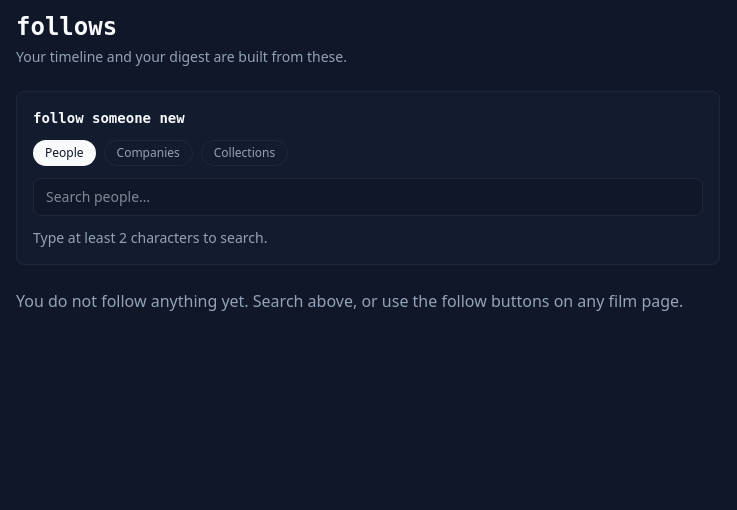
MyFollows › names a row the moment it is followed, before the server answers
Type "nolan" into the search field labelled "Search people…". click: (368, 197)
box: x1=33 y1=178 x2=703 y2=216
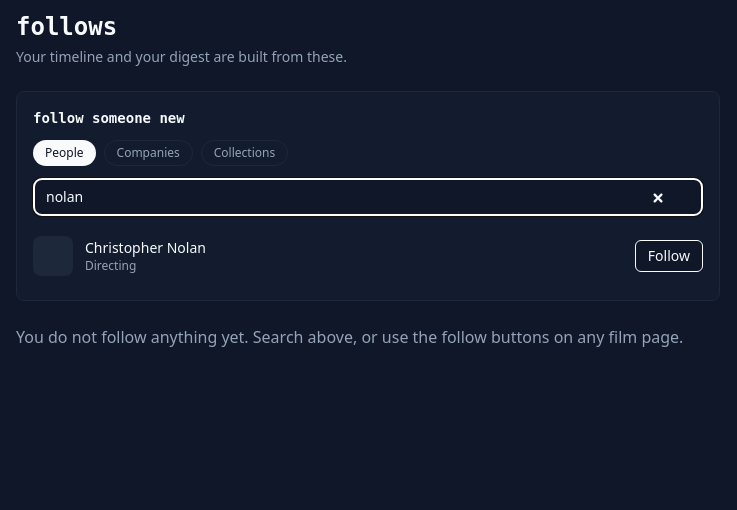
Click the button with aria-label "follow christopher nolan". click: (669, 256)
box: x1=635 y1=240 x2=703 y2=272
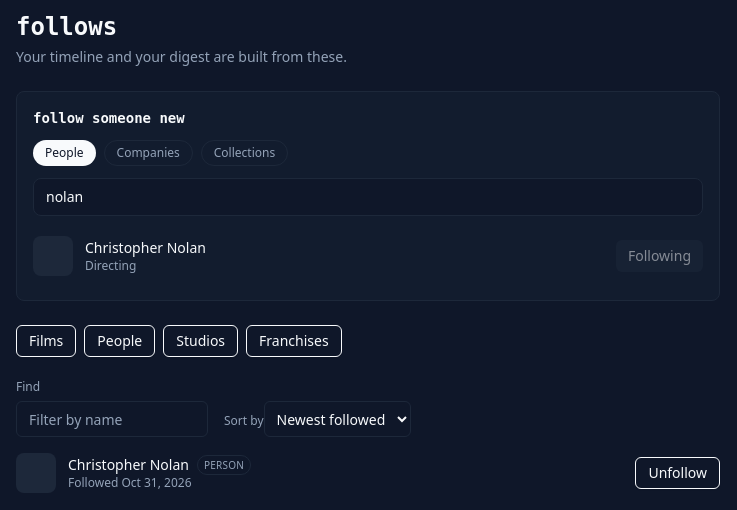
Check: the link "Christopher Nolan" next to "Person" is shown, box x1=68 y1=455 x2=189 y2=474
